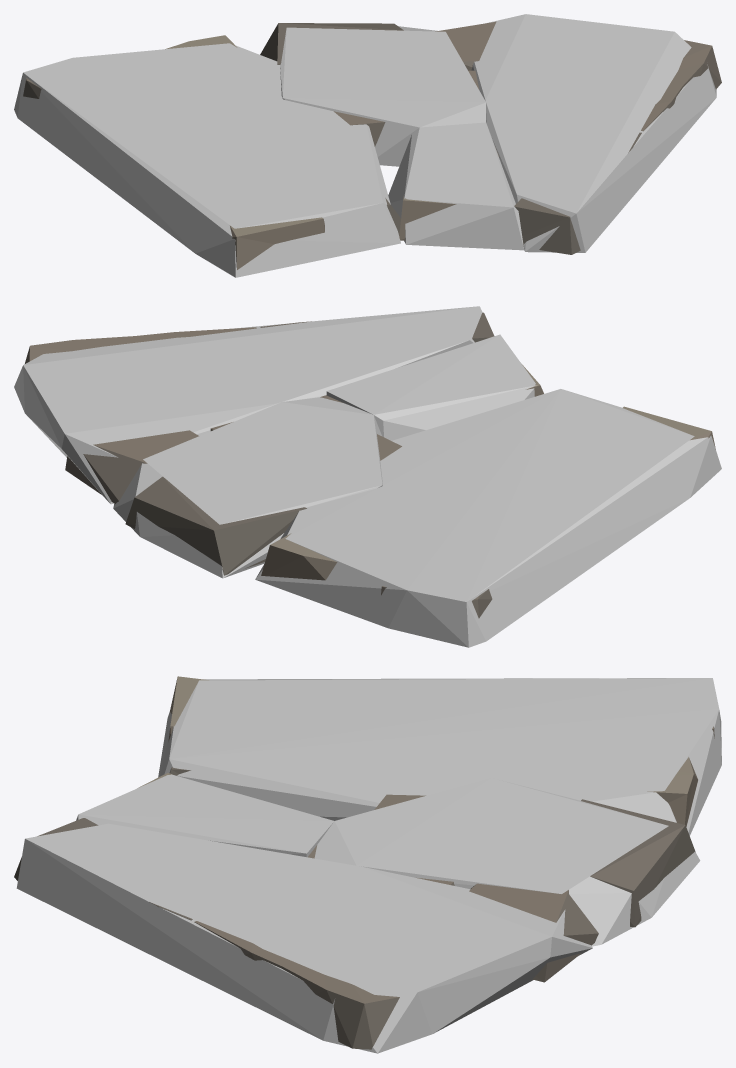
The model's file is SM_Env_Footpath_Corner_Small_02.fbx.
3 renders of one model, top to bottom at view 1: azimuth 30°, elevation 25°; view 2: azimuth 150°, elevation 25°; view 3: azimuth 270°, elevation 25°, orthographic. The views are drawn at different scales.
Visible parts, largest first — view 1: SM_Env_Footpath_Corner_Small_02_ConvexHulls, SM_Env_Footpath_Corner_Small_02; view 2: SM_Env_Footpath_Corner_Small_02_ConvexHulls, SM_Env_Footpath_Corner_Small_02; view 3: SM_Env_Footpath_Corner_Small_02_ConvexHulls, SM_Env_Footpath_Corner_Small_02.
Part boxes in pixels (x1,y1,x2,y2): SM_Env_Footpath_Corner_Small_02_ConvexHulls: (14, 14, 716, 277); SM_Env_Footpath_Corner_Small_02: (23, 21, 721, 269); SM_Env_Footpath_Corner_Small_02_ConvexHulls: (14, 306, 721, 647); SM_Env_Footpath_Corner_Small_02: (25, 312, 715, 618); SM_Env_Footpath_Corner_Small_02_ConvexHulls: (16, 678, 721, 1053); SM_Env_Footpath_Corner_Small_02: (14, 676, 714, 1049).
Size of the model in its own units: 383 by 337 by 24.79.
2 materials, 1 textured.
